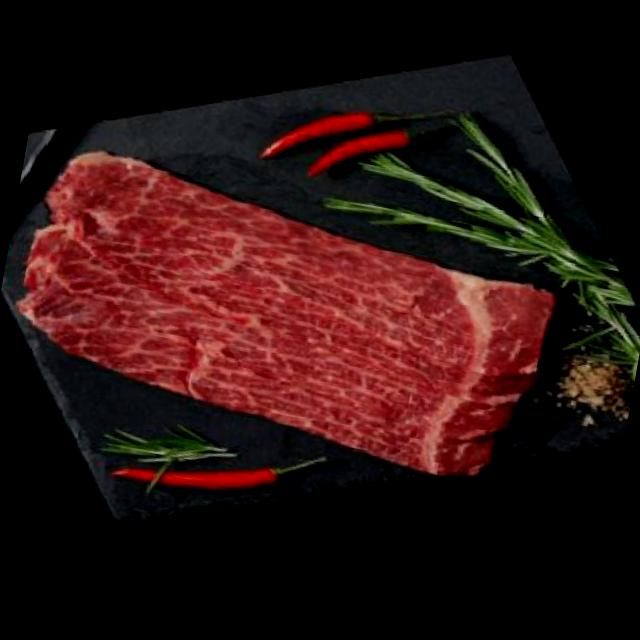beef: (0, 116, 601, 516)
